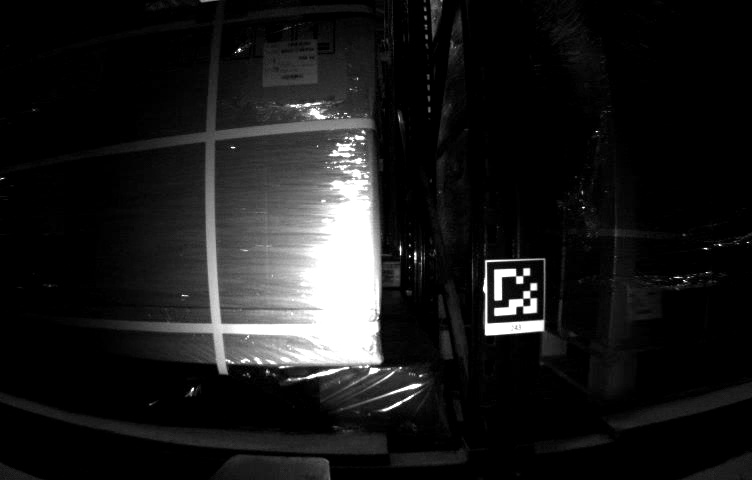True Barcode: (263, 41, 318, 85)
